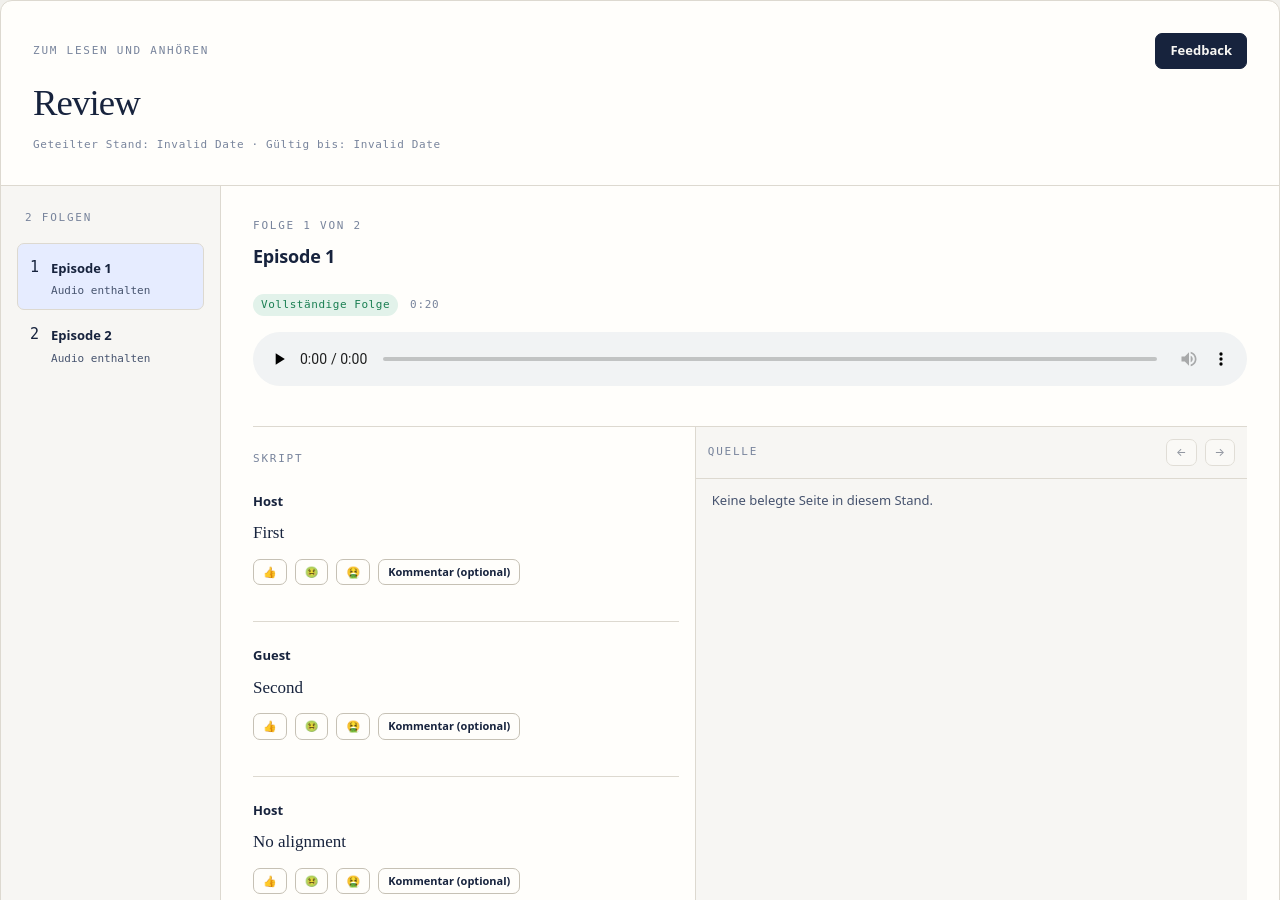
Test: public feedback polish › preserves a failed dirty mark when a questionnaire retry succeeds
Click the button named "Mag ich nicht" at [312, 572], box [295,559,328,585]
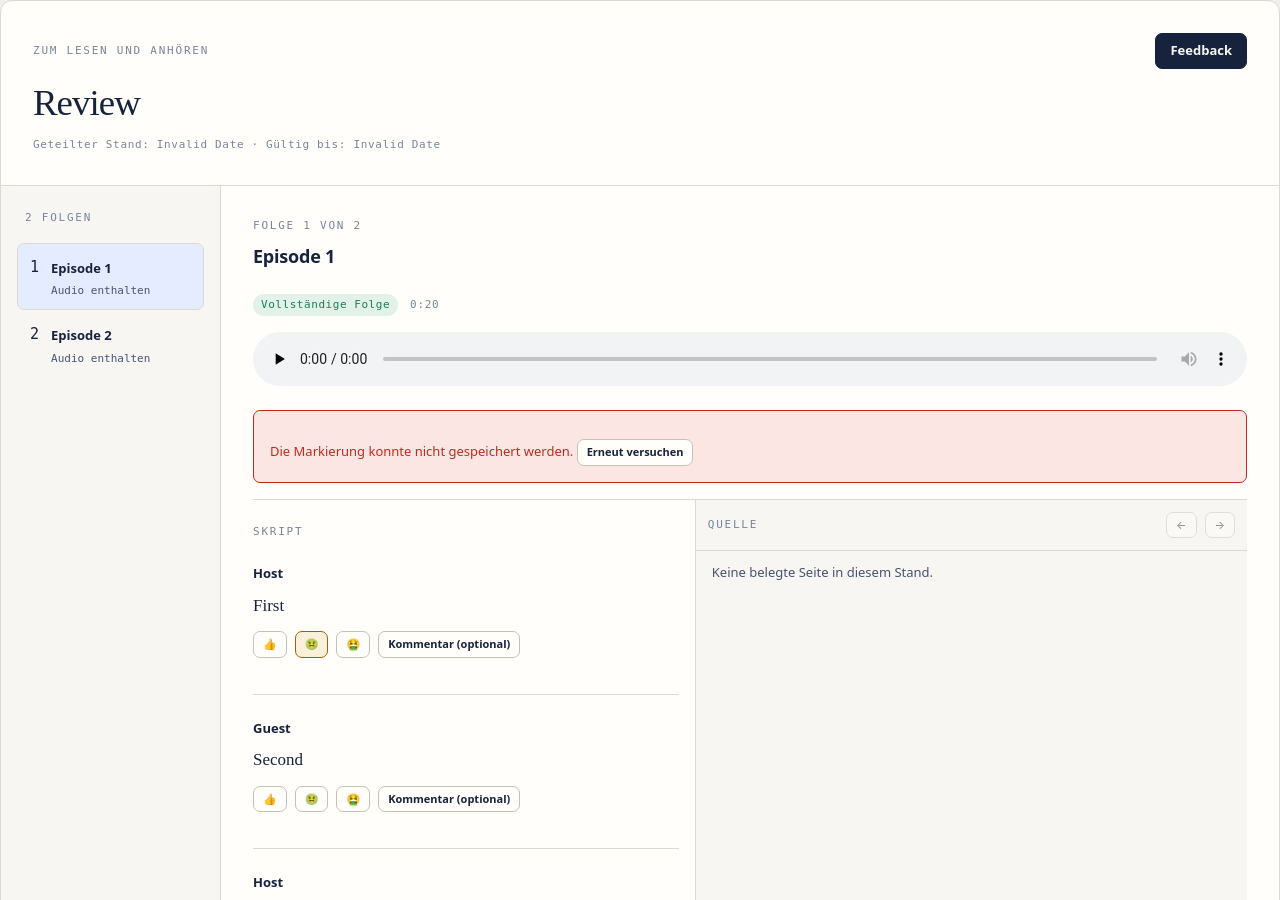
Check: the message "Die Markierung konnte nicht gespeichert werden. Erneut versuchen" is shown, box [253,410,1247,483]
Click the button "Feedback" at [1201, 51], box [1155,33,1247,68]
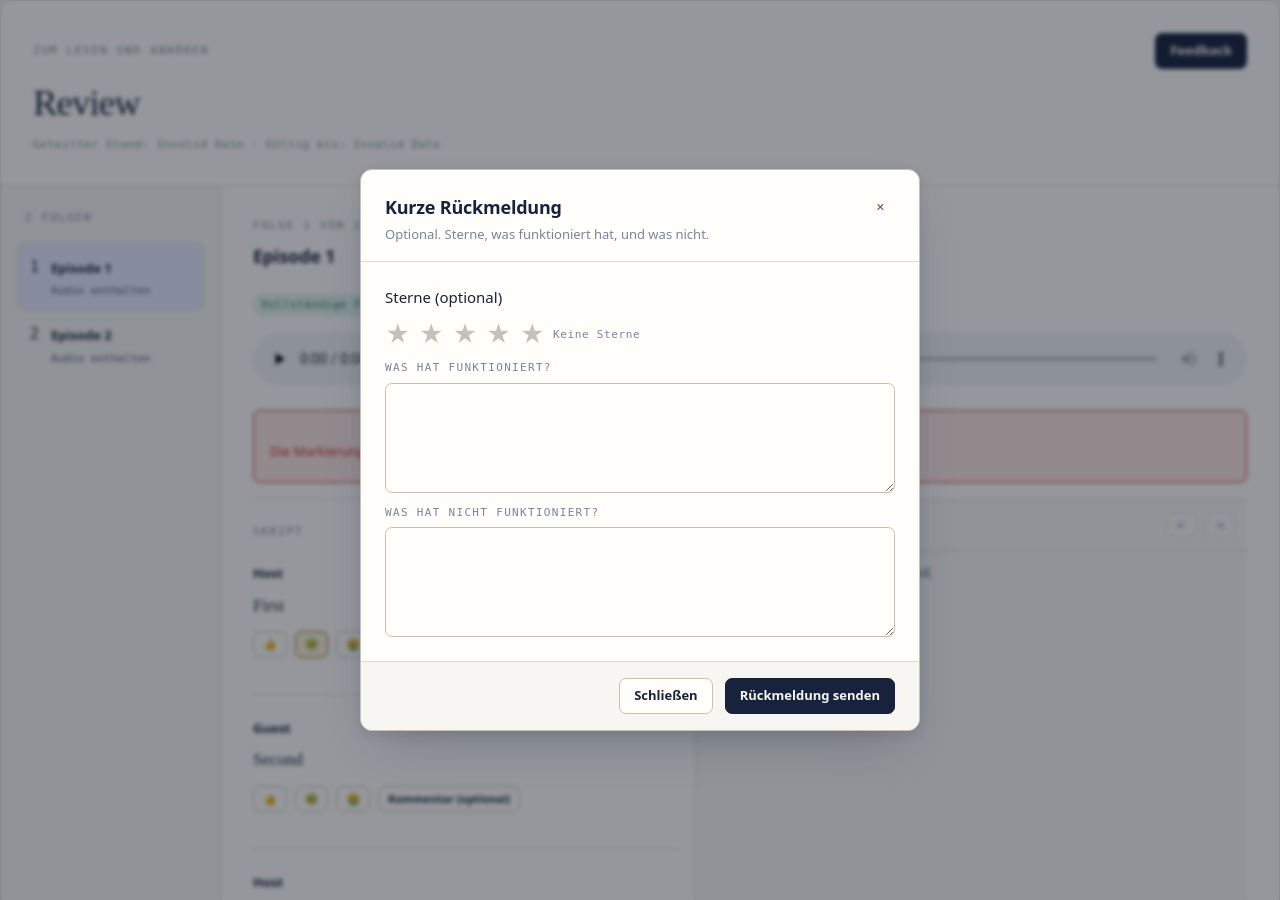
Click the button with class "btn--primary" showing "Rückmeldung senden" at [810, 696], box [725,678,895,714]
Wait 61100 ms
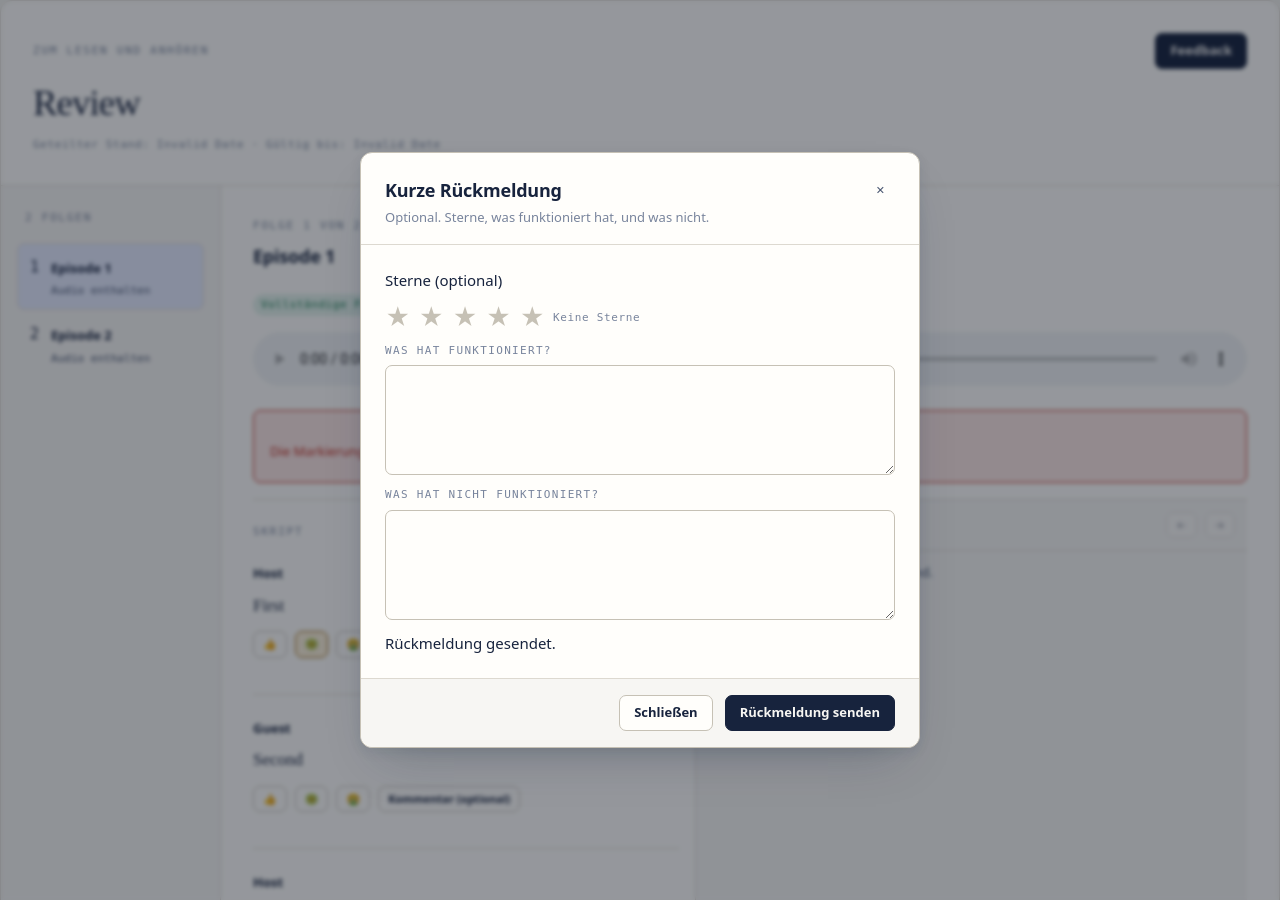
Check: the message "Die Markierung konnte nicht gespeichert werden. Erneut versuchen" is shown, box [253,410,1247,483]
Check: the text "Rückmeldung gesendet." is shown, box [385,633,556,653]
